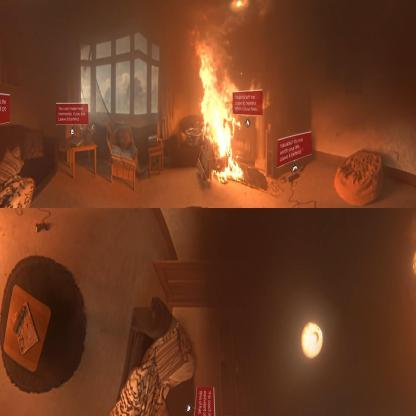fire: (191, 36, 244, 184)
